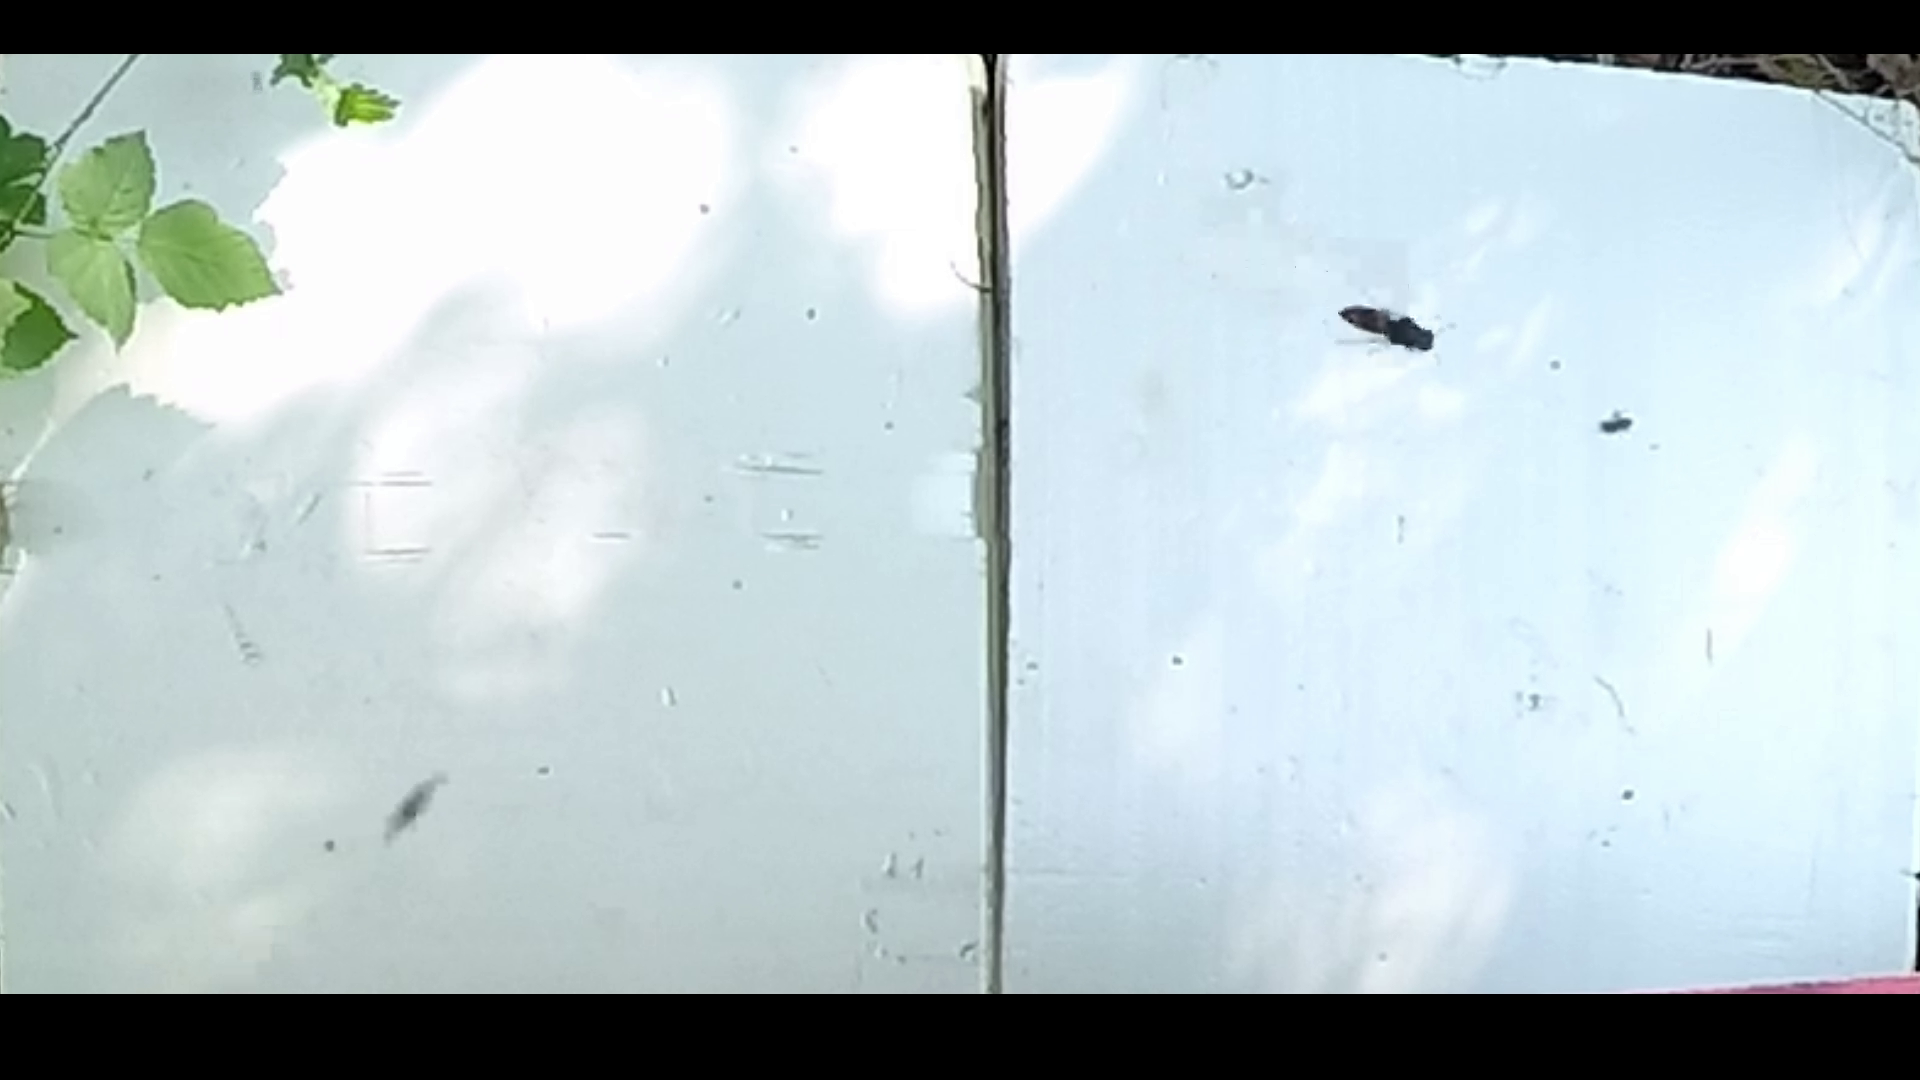Asian_hornets: (1319, 280, 1460, 384)
